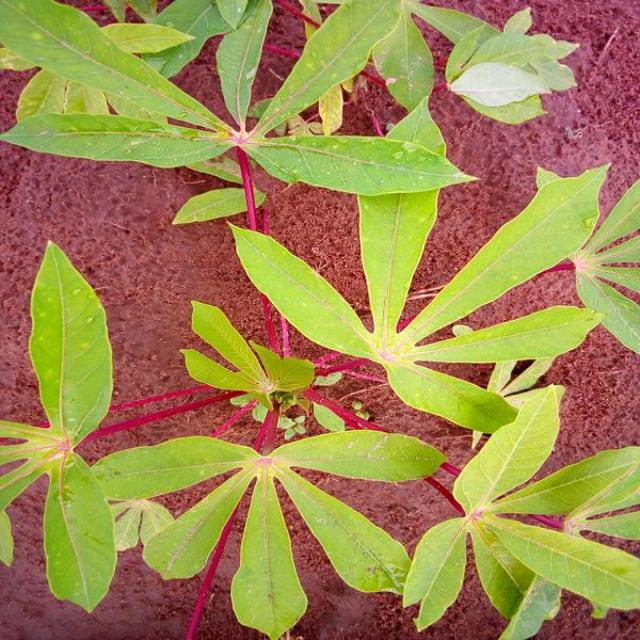cassava leaf: (2, 0, 640, 637), (28, 238, 114, 447)
